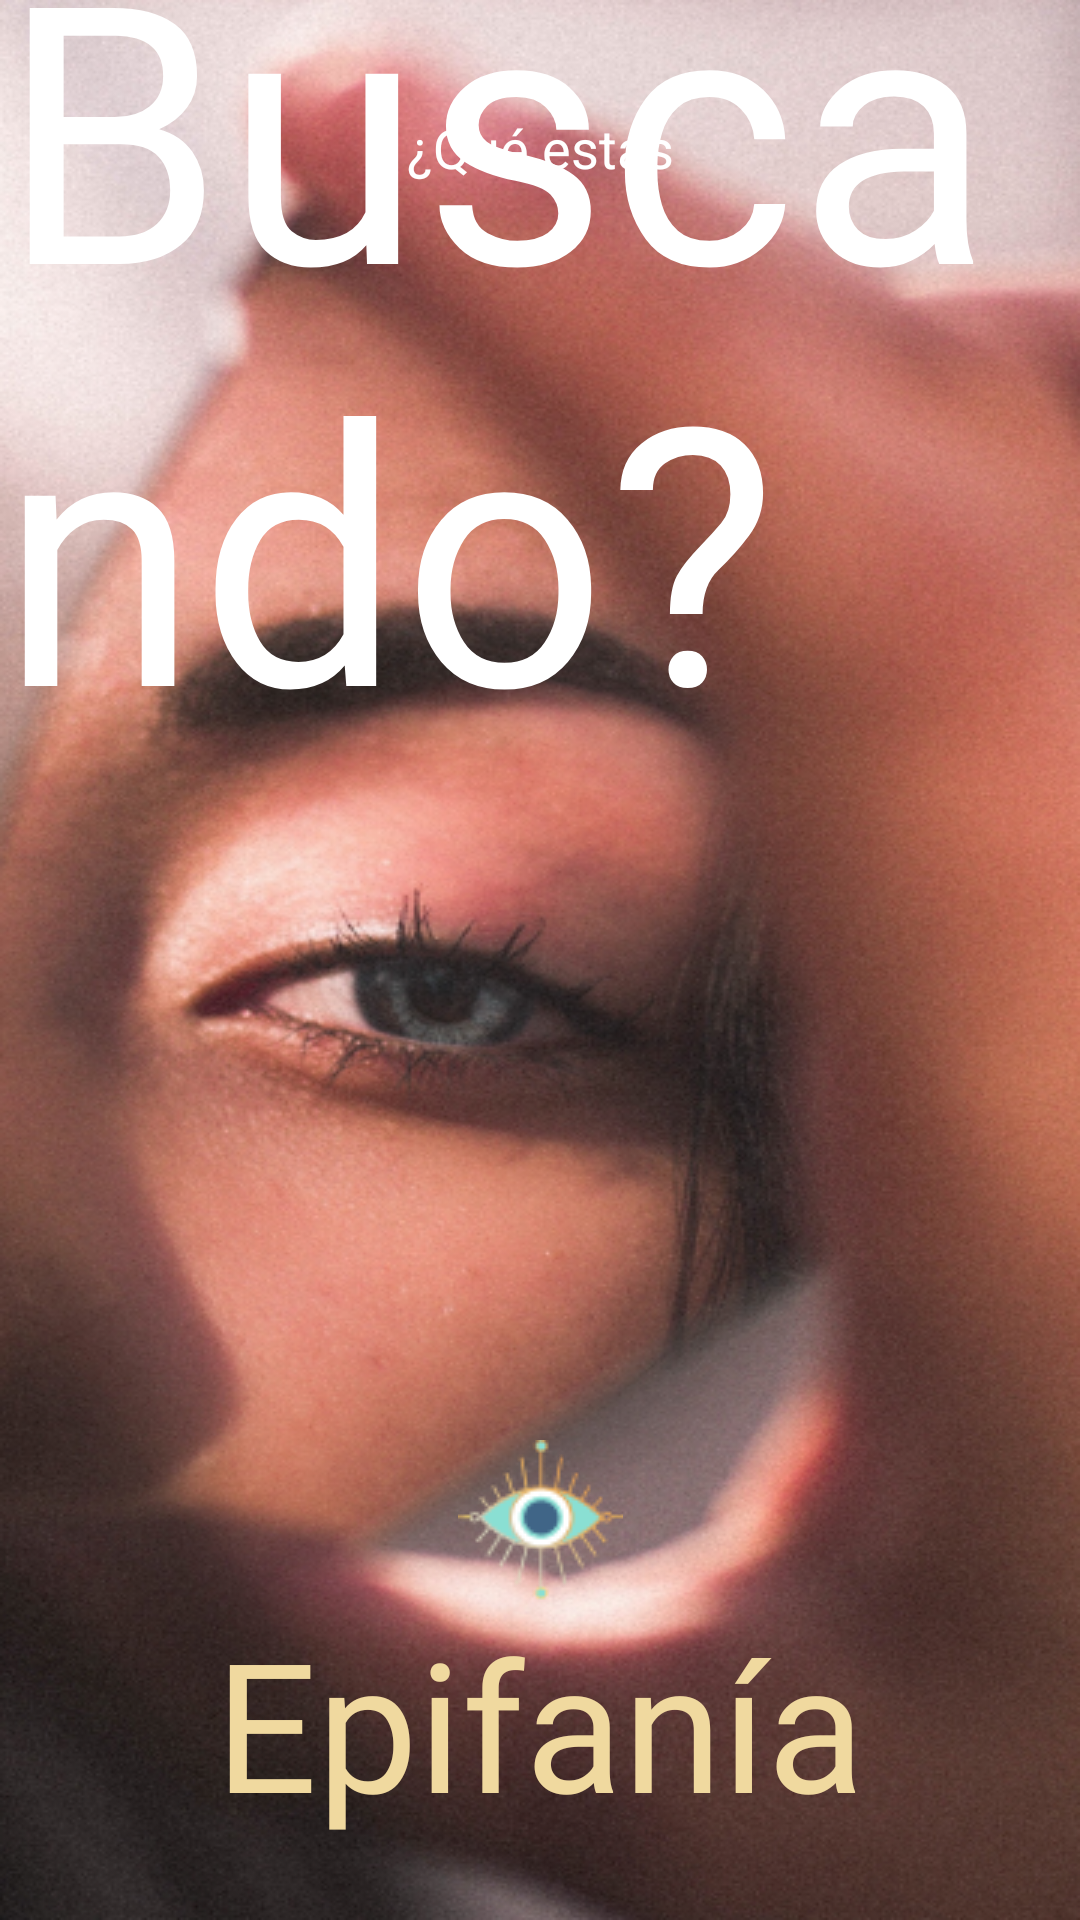

Screen size 1080x1920. Icon name, then its center in pixels as (x,y):
ojo centro: (540,1521)
